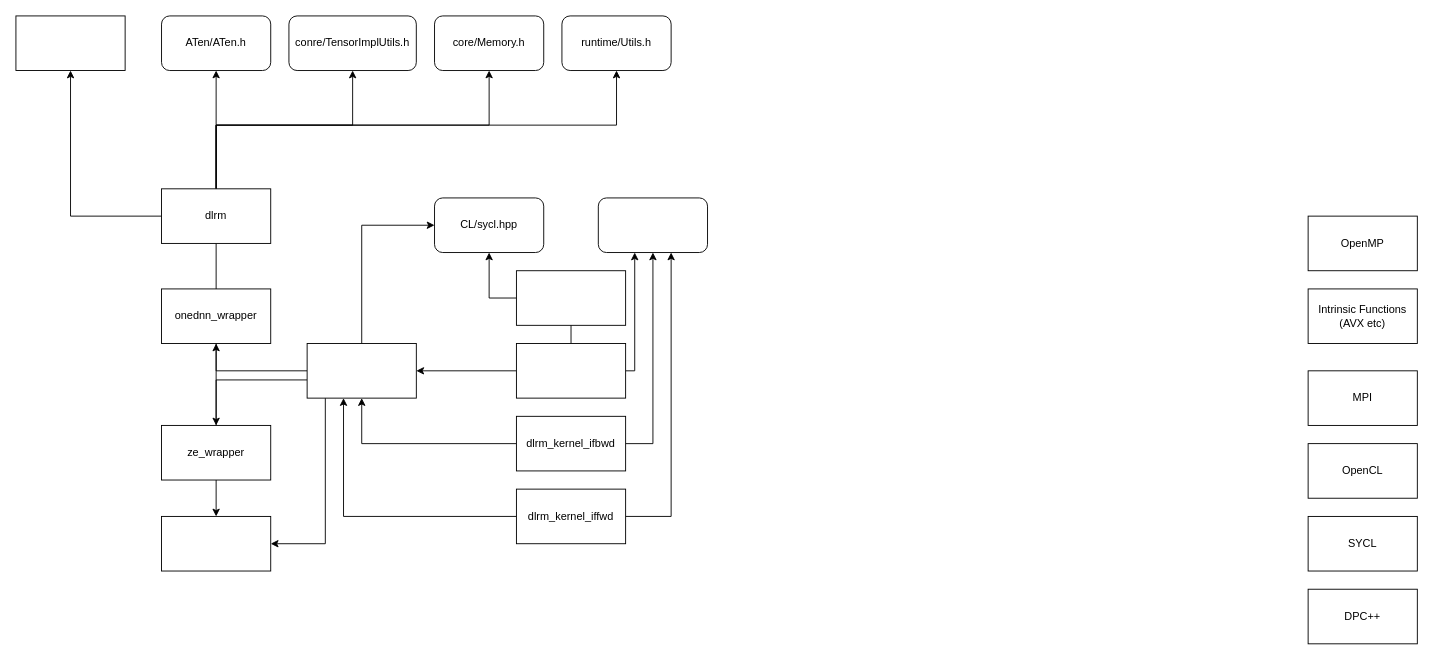
Some shapes in this 1433 by 660 pixel diagram are drawn without their labels. The shapes that lost their labels are listed below. From the top down, each one's box as (x1, y1, x2, y2) in pixels, then its label:
(15, 15, 125, 71): mlperf.hpp
(597, 197, 708, 253): sycl/ext/intel/esimd
(306, 343, 416, 398): dlrm_kernel
(516, 343, 626, 398): dlrm_kernel_fmadd
(161, 516, 271, 571): embedding
